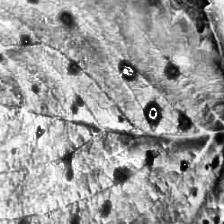Leaf Spot: (0, 0, 224, 224), (155, 135, 224, 224), (195, 0, 224, 145)
